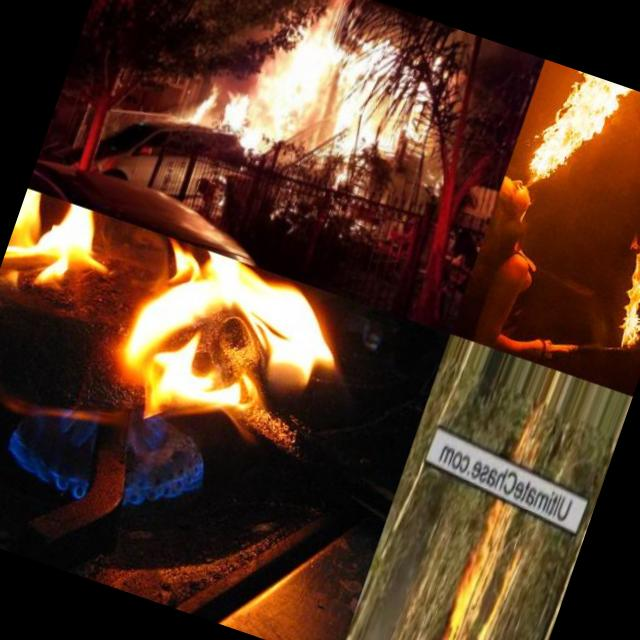fire: (0, 188, 377, 497), (181, 0, 448, 203), (418, 508, 533, 640), (544, 61, 608, 234), (583, 226, 640, 366)
